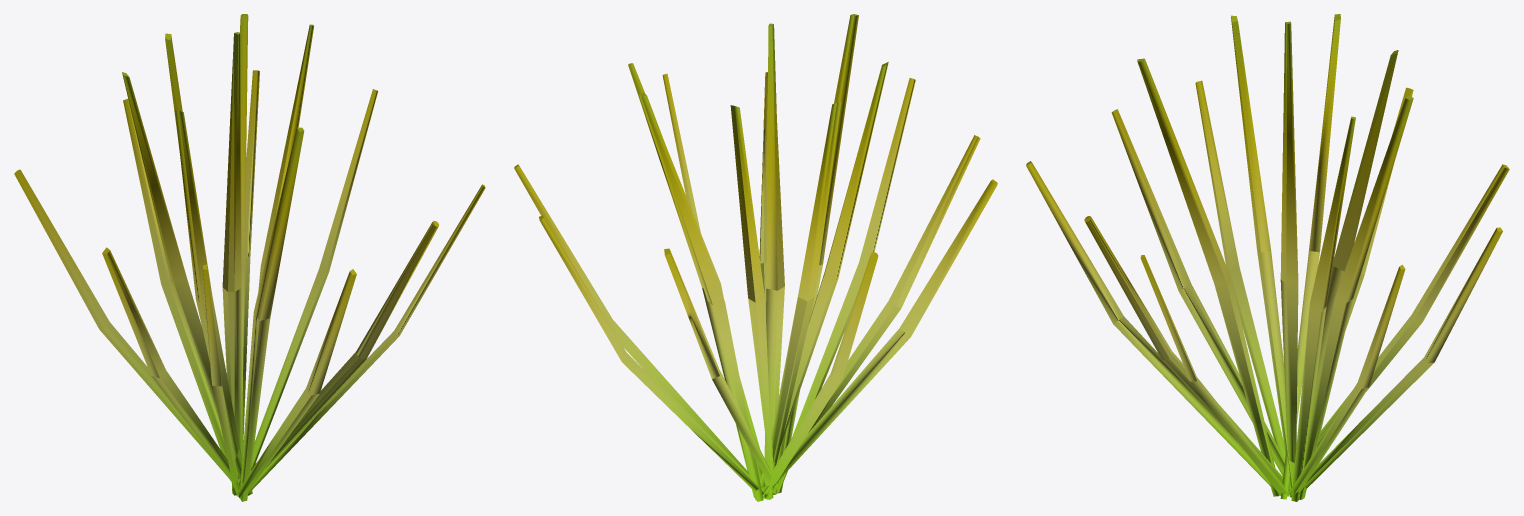
Rendered from Forest_Plant_003.FBX.
3 views of the same model, side by side, from view 1: azimuth 30°, elevation 25°; view 2: azimuth 150°, elevation 25°; view 3: azimuth 270°, elevation 25° (orthographic). The views are drawn at different scales.
Parts seen in each view (by area): view 1: Forest_Plant_003; view 2: Forest_Plant_003; view 3: Forest_Plant_003.
Part boxes in pixels (x1,y1,x2,y2): Forest_Plant_003: [14, 14, 485, 501]; Forest_Plant_003: [514, 14, 997, 501]; Forest_Plant_003: [1026, 14, 1509, 501].
Bounding box in the file's own units: 175 × 207 × 192.
1 material, 1 textured.
